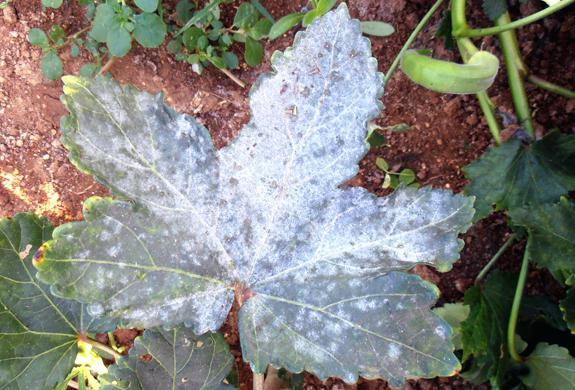Squash Powdery mildew leaf: (32, 8, 487, 375)
